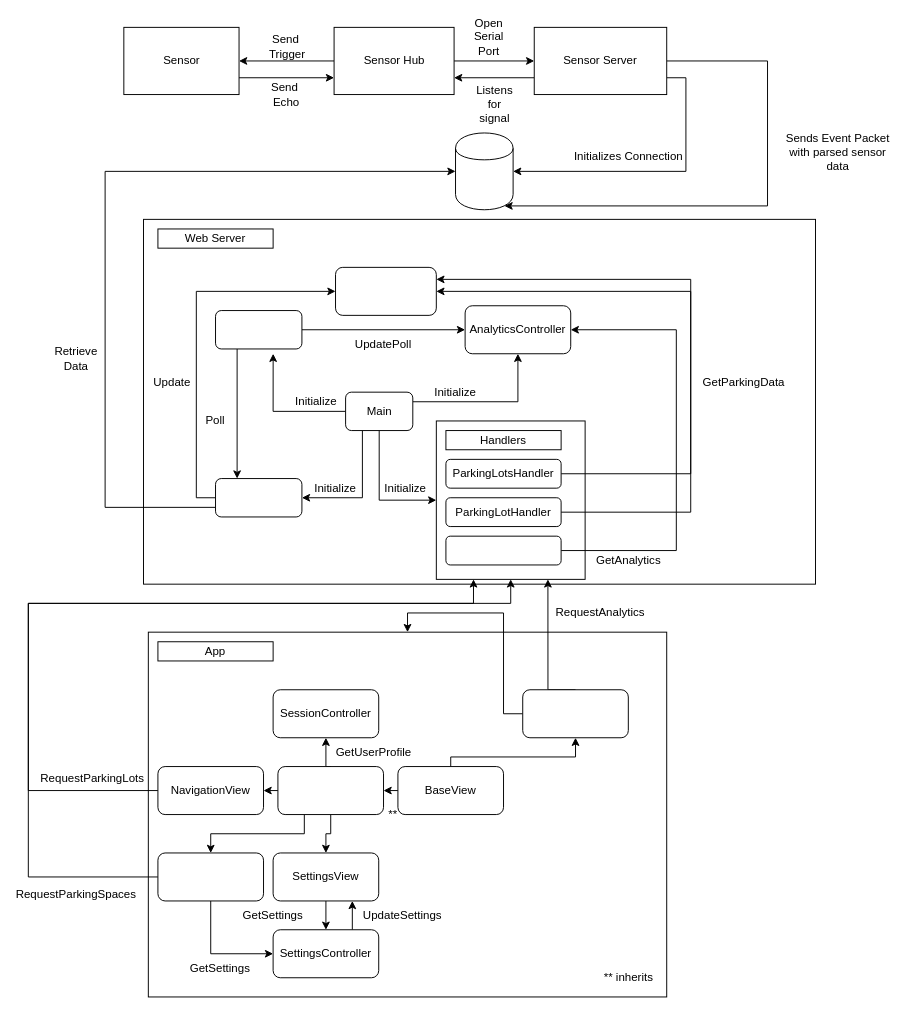
Image size: 909x1014. Some labels were removed from this diagram. Each missing label, with the centre of its shape:
"AnalyticsHandler" belongs at (x=503, y=550).
"AnalyticsView" belongs at (x=575, y=713).
"Database" belongs at (x=484, y=171).
"DBRequestor" belongs at (x=258, y=497).
"ParkingLotsData" belongs at (x=385, y=290).
"ParkingLotView" belongs at (x=210, y=876).
"Poller" belongs at (x=258, y=329).
"UserMainView" belongs at (x=330, y=790).
